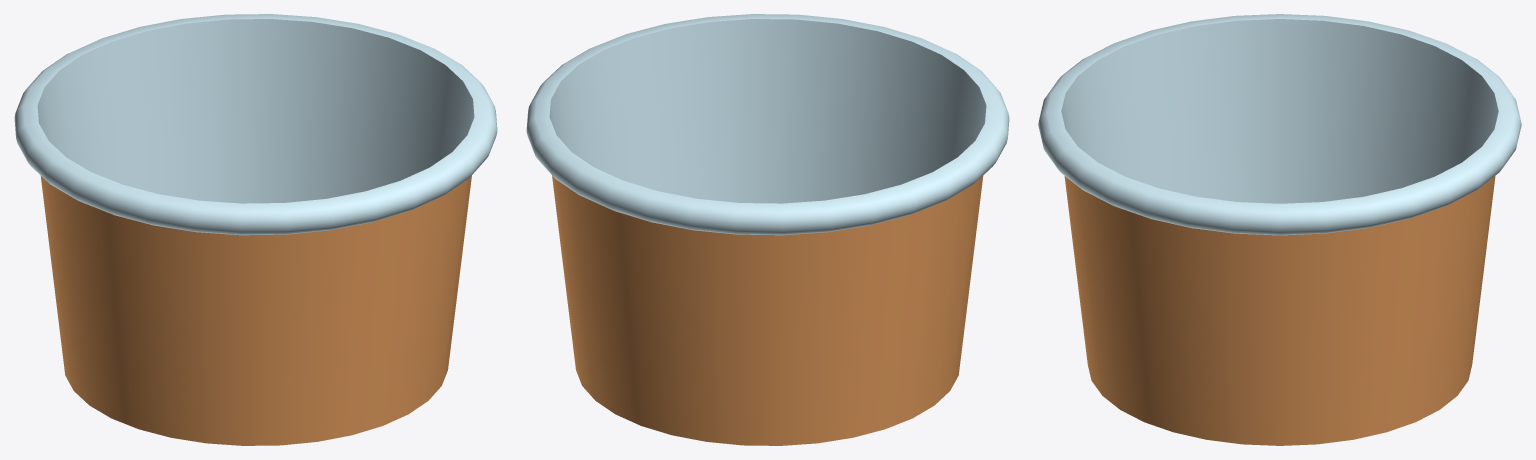
The model's file is Cup Ice Cream B.fbx.
3 renders of one model, left to right at view 1: azimuth 30°, elevation 25°; view 2: azimuth 150°, elevation 25°; view 3: azimuth 270°, elevation 25°, orthographic.
Visible parts, largest first — view 1: Cup Ice Cream B; view 2: Cup Ice Cream B; view 3: Cup Ice Cream B.
Part boxes in pixels (left/top/right/bottom): Cup Ice Cream B: left=14, top=14, right=497, bottom=445; Cup Ice Cream B: left=526, top=14, right=1009, bottom=445; Cup Ice Cream B: left=1038, top=14, right=1521, bottom=445.
Bounding box in the file's own units: 0.7274 × 0.4205 × 0.7274.
